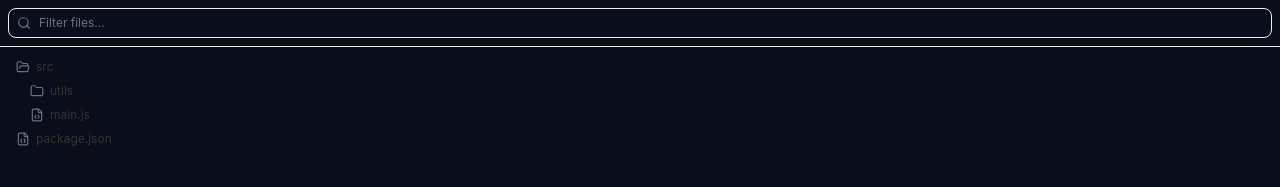
FileTree › expands a nested folder on click to reveal its contents
This screenshot has width=1280, height=187.
Expected: the text "utils" is shown, [50,83,73,99]
What coordinates should you click on to do the following:
click the button "utils"
I would click on:
 (37, 91)
Its box is [8,79,1272,103].
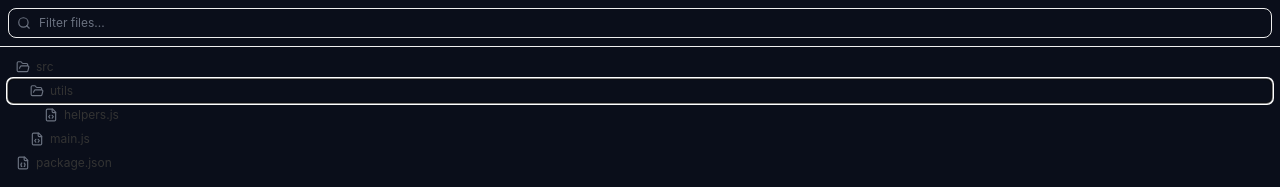
Expected: the text "helpers.js" is shown, [64,107,119,123]
What coordinates should you click on to do the following:
click the button "utils"
I would click on:
 (37, 91)
Its box is [8,79,1272,103].
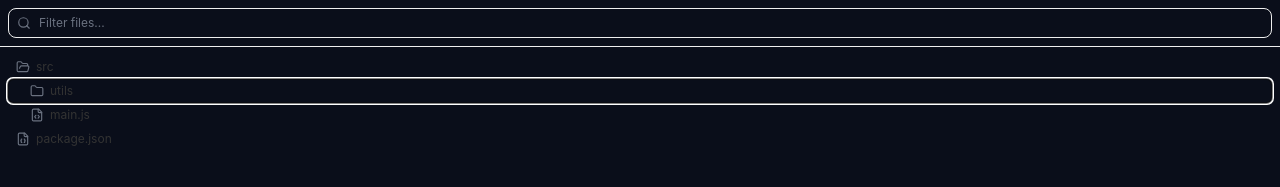
Expected: the button "helpers.js" is gone
